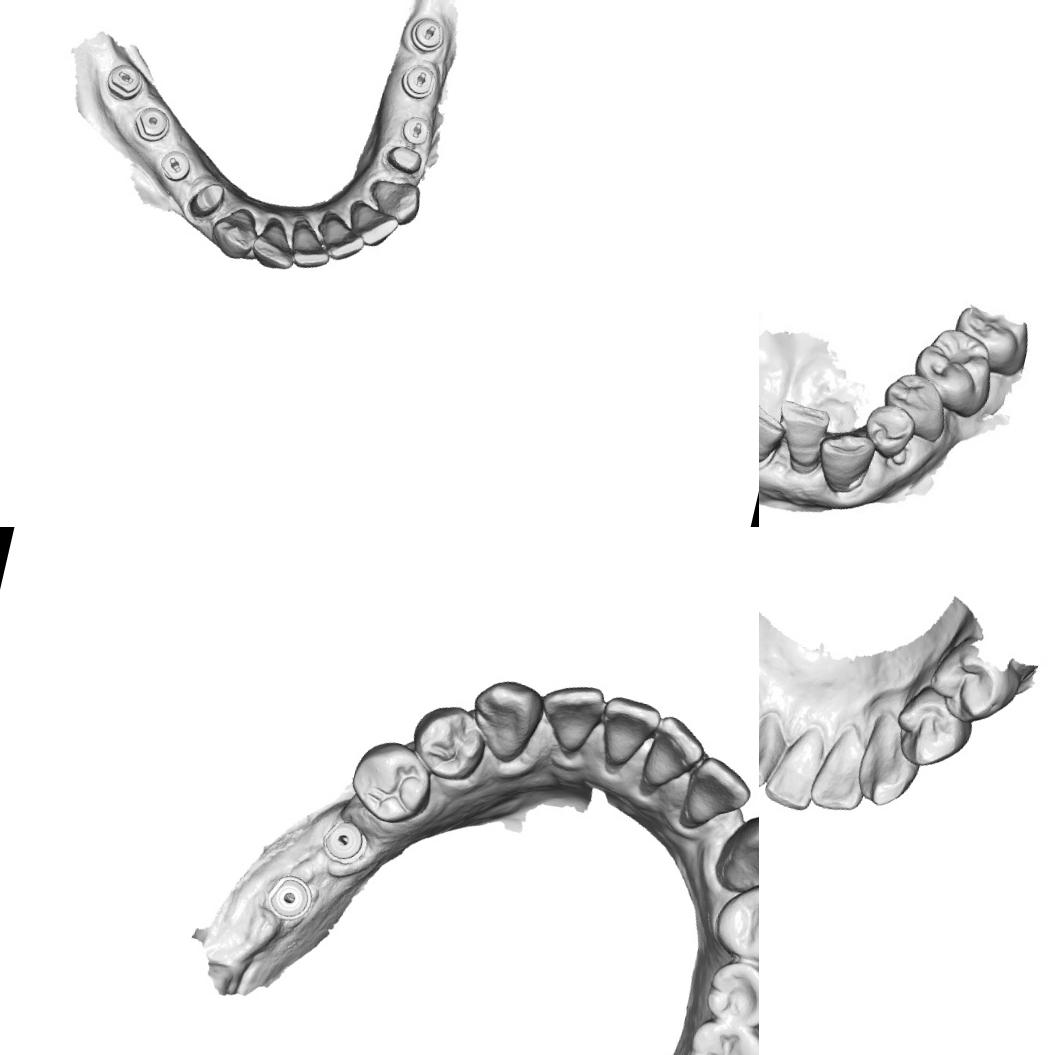canine: (463, 671, 550, 770), (851, 713, 928, 812), (712, 807, 759, 902), (362, 174, 426, 230), (206, 201, 262, 263), (863, 404, 920, 464)
crown: (184, 176, 228, 224), (380, 139, 427, 179)
implant: (262, 872, 320, 932), (317, 813, 368, 868), (130, 102, 174, 147)
implant_minus: (405, 11, 450, 57), (102, 59, 147, 105), (397, 60, 441, 104), (154, 145, 196, 186), (397, 111, 436, 150)
incisor: (530, 676, 608, 761), (679, 752, 756, 838), (637, 712, 713, 798), (805, 726, 876, 818), (768, 398, 838, 482), (592, 693, 662, 776), (761, 730, 828, 813), (812, 431, 876, 501), (247, 212, 303, 273), (316, 213, 370, 266), (346, 200, 401, 252), (284, 221, 335, 275), (759, 706, 787, 792), (759, 400, 790, 473)
molar: (910, 323, 997, 413), (679, 1016, 759, 1055)
premolar: (346, 732, 440, 832), (923, 638, 1022, 732), (886, 681, 976, 776), (404, 696, 492, 786), (707, 875, 759, 970), (886, 372, 953, 440), (701, 956, 759, 1033)
